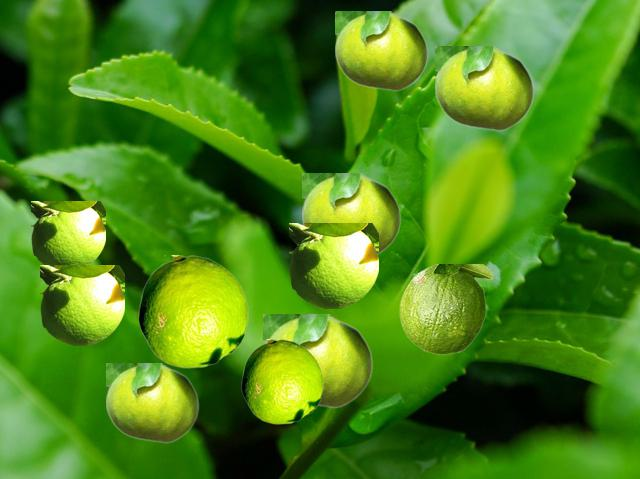dalandan: (138, 255, 247, 367), (263, 314, 372, 407), (399, 264, 492, 353), (435, 46, 533, 130), (302, 173, 400, 255), (289, 223, 377, 307), (106, 363, 198, 442), (335, 11, 427, 90), (241, 339, 322, 423), (40, 265, 123, 344), (31, 201, 104, 265)
